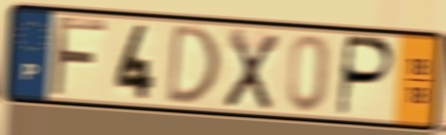0: (284, 31, 334, 115)
4: (112, 22, 157, 102)
D: (163, 21, 223, 108)
F: (47, 13, 109, 100)
P: (334, 32, 397, 120)
X: (221, 25, 281, 114)
